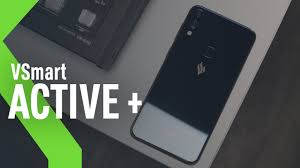vsmart: (128, 4, 256, 167)
